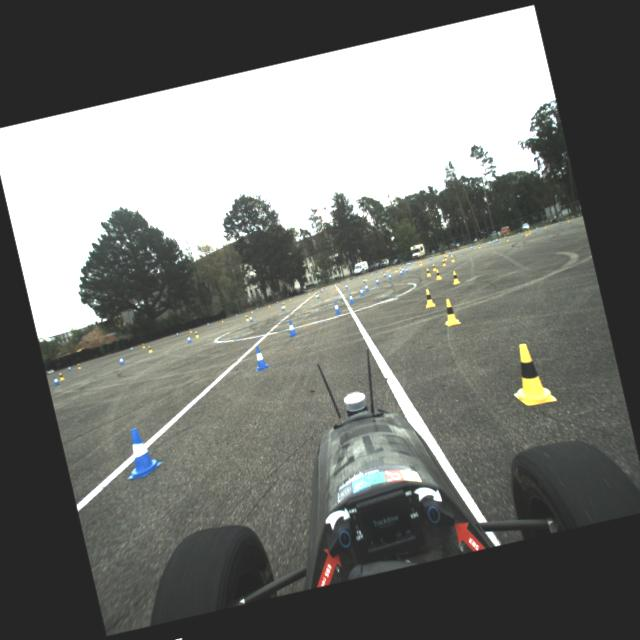blue_cone: (117, 424, 163, 480), (250, 344, 270, 371), (286, 319, 297, 336), (332, 300, 341, 314), (346, 292, 354, 304), (52, 376, 60, 386), (118, 355, 125, 364), (358, 286, 364, 296), (186, 334, 192, 342), (364, 282, 369, 290), (249, 314, 253, 322), (375, 277, 379, 284), (388, 272, 392, 278), (280, 304, 284, 310), (316, 292, 320, 298), (68, 364, 72, 370), (344, 284, 348, 289), (398, 269, 402, 274), (404, 266, 408, 271), (401, 266, 404, 272), (362, 278, 365, 282), (383, 272, 386, 276), (130, 346, 133, 350), (488, 240, 491, 244), (235, 313, 238, 316), (408, 262, 411, 265), (176, 332, 178, 336), (207, 322, 209, 326), (276, 300, 278, 304), (414, 260, 416, 264), (429, 256, 431, 260), (494, 238, 496, 242), (345, 278, 347, 282), (295, 294, 297, 298), (496, 237, 498, 241), (256, 307, 258, 310), (448, 251, 450, 254), (504, 235, 506, 238), (536, 227, 538, 230), (558, 220, 560, 223), (310, 290, 312, 292), (402, 264, 404, 266), (470, 246, 472, 248), (492, 240, 494, 242), (518, 232, 520, 234), (372, 272, 373, 274), (323, 286, 324, 288), (335, 282, 336, 284), (359, 276, 360, 278), (383, 268, 384, 270), (393, 266, 394, 268), (406, 263, 407, 265), (407, 263, 408, 265), (408, 262, 409, 264)
yellow_cone: (502, 339, 556, 409), (440, 297, 460, 326), (422, 288, 435, 308), (450, 270, 460, 284), (434, 268, 441, 280), (57, 371, 65, 380), (425, 267, 431, 276), (440, 258, 446, 266), (147, 344, 153, 352), (431, 262, 436, 270), (76, 363, 82, 369), (194, 330, 198, 337), (244, 314, 248, 321), (450, 256, 454, 262), (141, 342, 145, 348), (443, 255, 447, 260), (505, 236, 509, 241), (282, 302, 285, 308), (334, 284, 337, 290), (314, 292, 317, 297), (394, 266, 396, 272), (189, 328, 192, 332), (398, 264, 401, 268), (524, 231, 527, 235), (419, 259, 422, 263), (478, 243, 480, 248), (221, 318, 223, 322), (250, 308, 252, 312), (268, 303, 270, 307), (289, 296, 291, 300), (365, 276, 367, 280), (386, 268, 388, 272), (419, 261, 421, 265), (544, 224, 546, 228), (567, 218, 569, 222), (446, 252, 448, 256), (347, 278, 349, 282), (528, 228, 530, 232), (358, 275, 360, 278), (380, 269, 382, 272), (388, 267, 390, 270), (528, 230, 530, 233), (308, 292, 310, 294), (325, 286, 327, 288), (337, 282, 339, 284), (370, 272, 372, 274)
